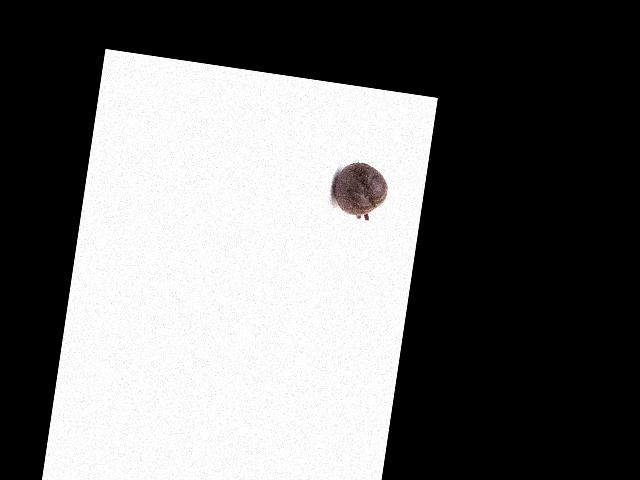beet: (329, 158, 391, 221)
